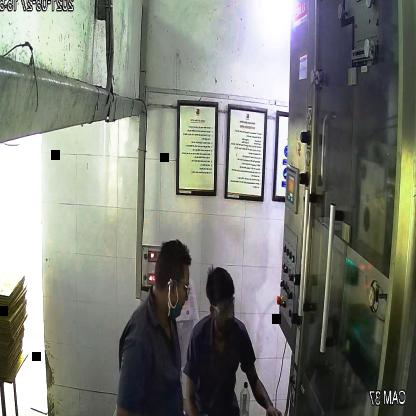goggles: (206, 295, 238, 318)
